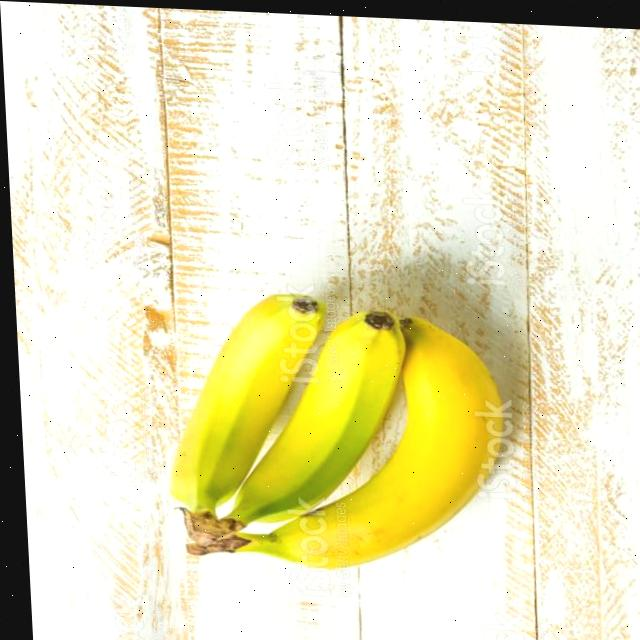banana: (151, 282, 528, 581)
